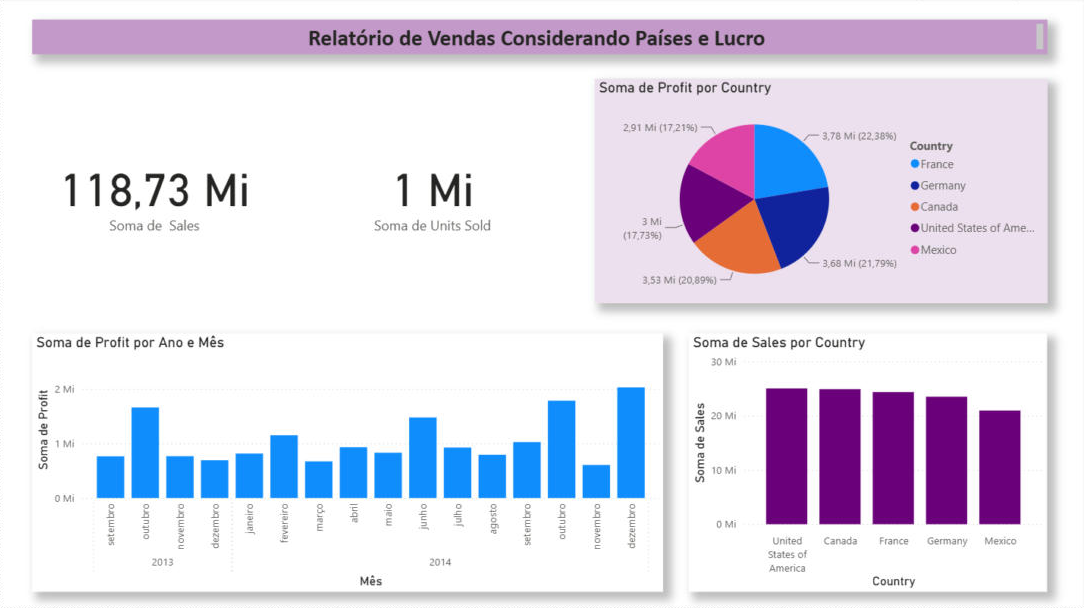

What the dashboard file says about the page in this screenshot:
{"tool":"powerbi","page":{"name":"Página 2","canvas":[1280,720],"ordinal":1},"visuals":[{"type":"textbox","box":[38.5,24.7,1198.9,41.2],"z":0},{"type":"card","fields":{"Values":["Sum(financials. Sales)"]},"box":[38.5,155.4,288.7,149.9],"z":1000},{"type":"card","fields":{"Values":["Sum(financials.Units Sold)"]},"box":[357.5,154,308,151.2],"z":2000},{"type":"pieChart","fields":{"Category":["financials.Country"],"Y":["Sum(financials.Profit)"]},"box":[702.6,94.9,534.8,265.3],"z":3000},{"type":"clusteredColumnChart","fields":{"Category":["financials.Date.Variation.Hierarquia de datas.Ano","financials.Date.Variation.Hierarquia de datas.Mês"],"Y":["Sum(financials.Profit)"]},"box":[38.5,396,745.2,305.2],"z":4000},{"type":"clusteredColumnChart","fields":{"Category":["financials.Country"],"Y":["Sum(financials. Sales)"]},"box":[813.9,396,423.5,305.2],"z":5000}]}

Visuals, with their boxes in screenshot pixels (x1, y1, x2, y2), scaled from the page's 1280x720 canvas onto the 1084x608 screenshot:
textbox: select_region(33, 21, 1048, 56)
card - Sum(financials. Sales): select_region(33, 131, 277, 258)
card - Sum(financials.Units Sold): select_region(303, 130, 564, 258)
pieChart - financials.Country x Sum(financials.Profit): select_region(595, 80, 1048, 304)
clusteredColumnChart - financials.Date.Variation.Hierarquia de datas.Ano x financials.Date.Variation.Hierarquia de datas.Mês: select_region(33, 334, 664, 592)
clusteredColumnChart - financials.Country x Sum(financials. Sales): select_region(689, 334, 1048, 592)
